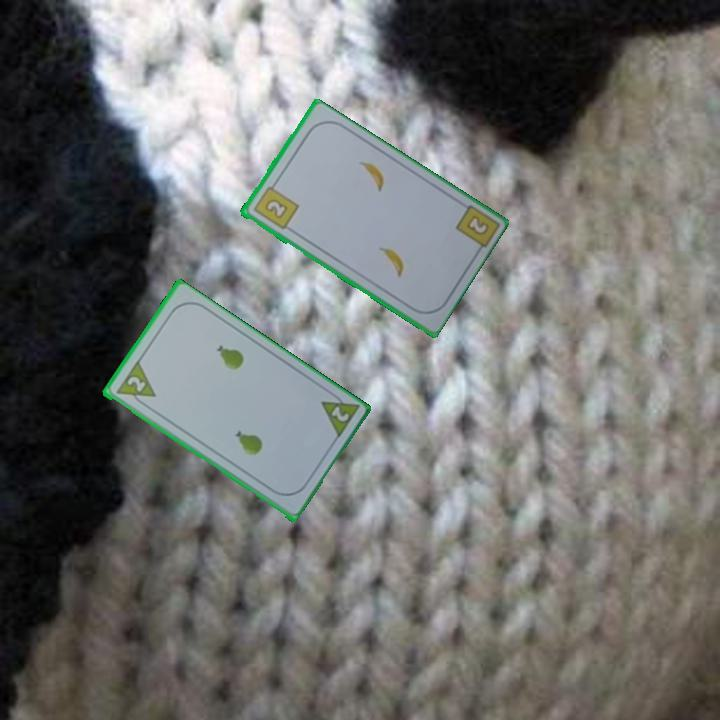2b: (249, 179, 301, 233), (462, 211, 492, 238)
2p: (123, 372, 148, 395), (327, 402, 352, 425)
